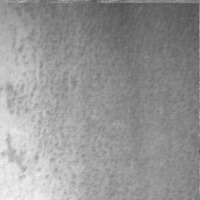pitted_surface: (0, 3, 199, 200)
rolled-in_scale: (37, 4, 89, 63), (22, 150, 83, 200)
